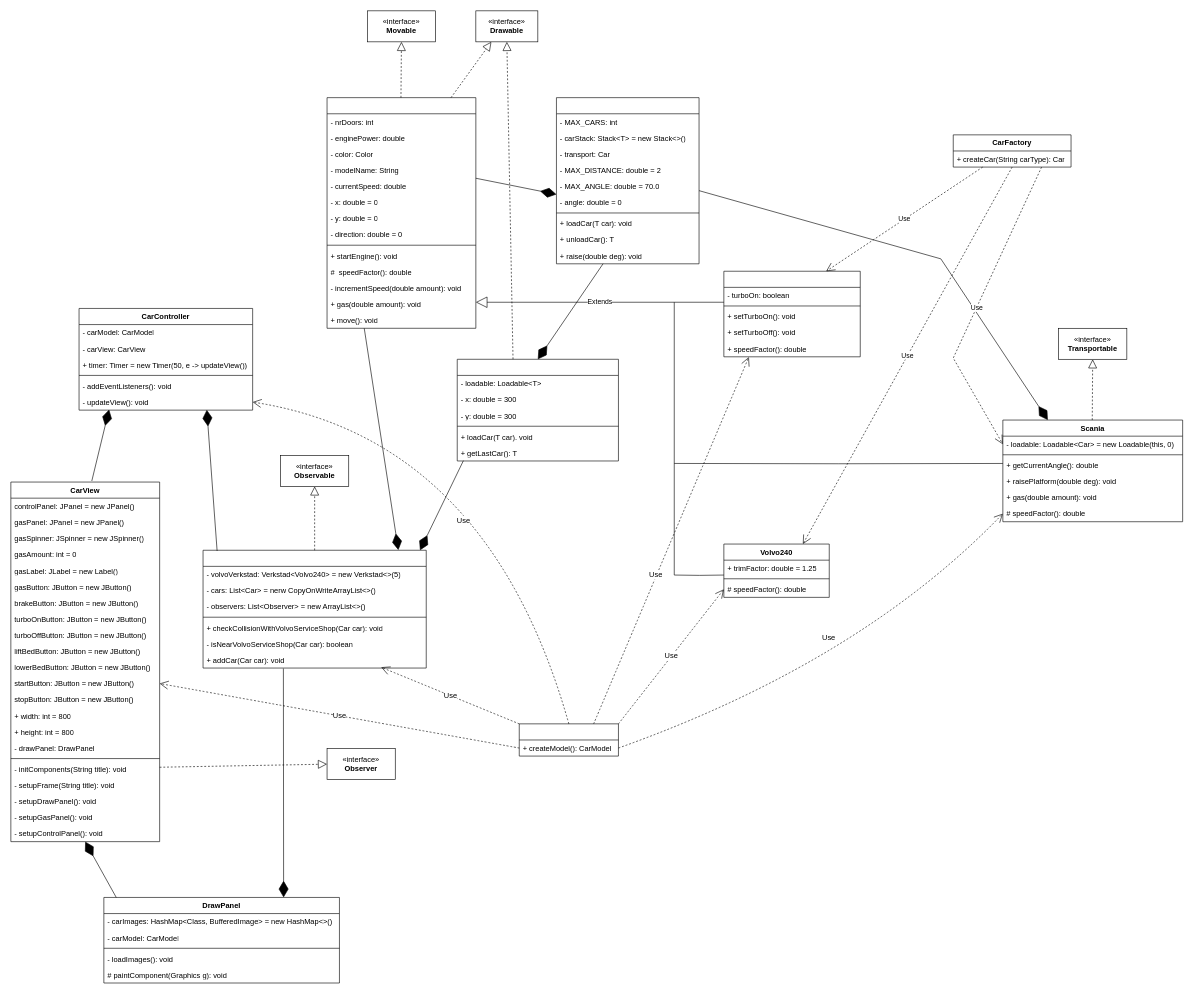
The diagram is 1194 pixels wide and 996 high, and some of its shapes have lost their labels. Each missing label, with the box of its shape:
Car: (326, 97, 476, 328)
CarModel: (202, 550, 426, 668)
Loadable<T extends Car>: (556, 97, 699, 264)
Saab95: (723, 271, 860, 357)
Startup: (519, 723, 618, 756)
Verkstad<T extends Car>: (457, 359, 618, 461)
